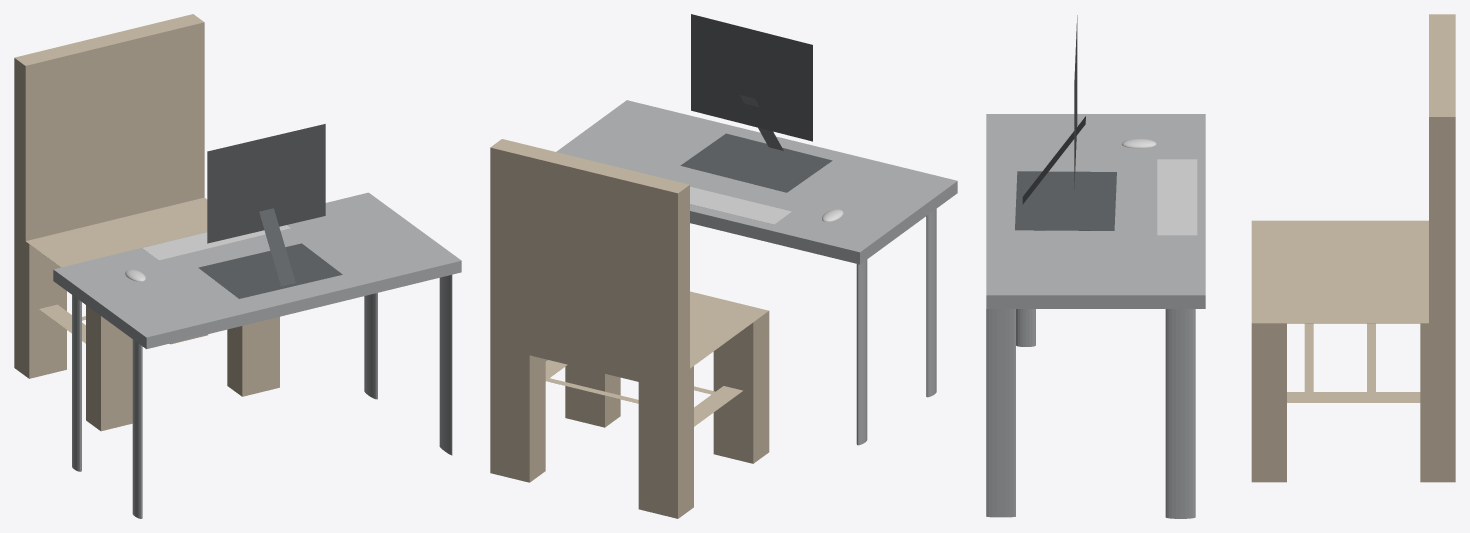
The model's file is deskfbx.fbx.
3 views of the same model, side by side, from view 1: azimuth 30°, elevation 25°; view 2: azimuth 150°, elevation 25°; view 3: azimuth 270°, elevation 25° (orthographic). The views are drawn at different scales.
Visible parts, largest first — view 1: Mesh_Mesh_head_geo.001_lambert2SG.001; view 2: Mesh_Mesh_head_geo.001_lambert2SG.001; view 3: Mesh_Mesh_head_geo.001_lambert2SG.001.
Boxes of the visible parts, x1,y1,x2,y2 form: Mesh_Mesh_head_geo.001_lambert2SG.001: (14,14,461,518); Mesh_Mesh_head_geo.001_lambert2SG.001: (490,14,957,518); Mesh_Mesh_head_geo.001_lambert2SG.001: (986,14,1455,518).
Bounding box in the file's own units: 4300 × 4250 × 4710.
